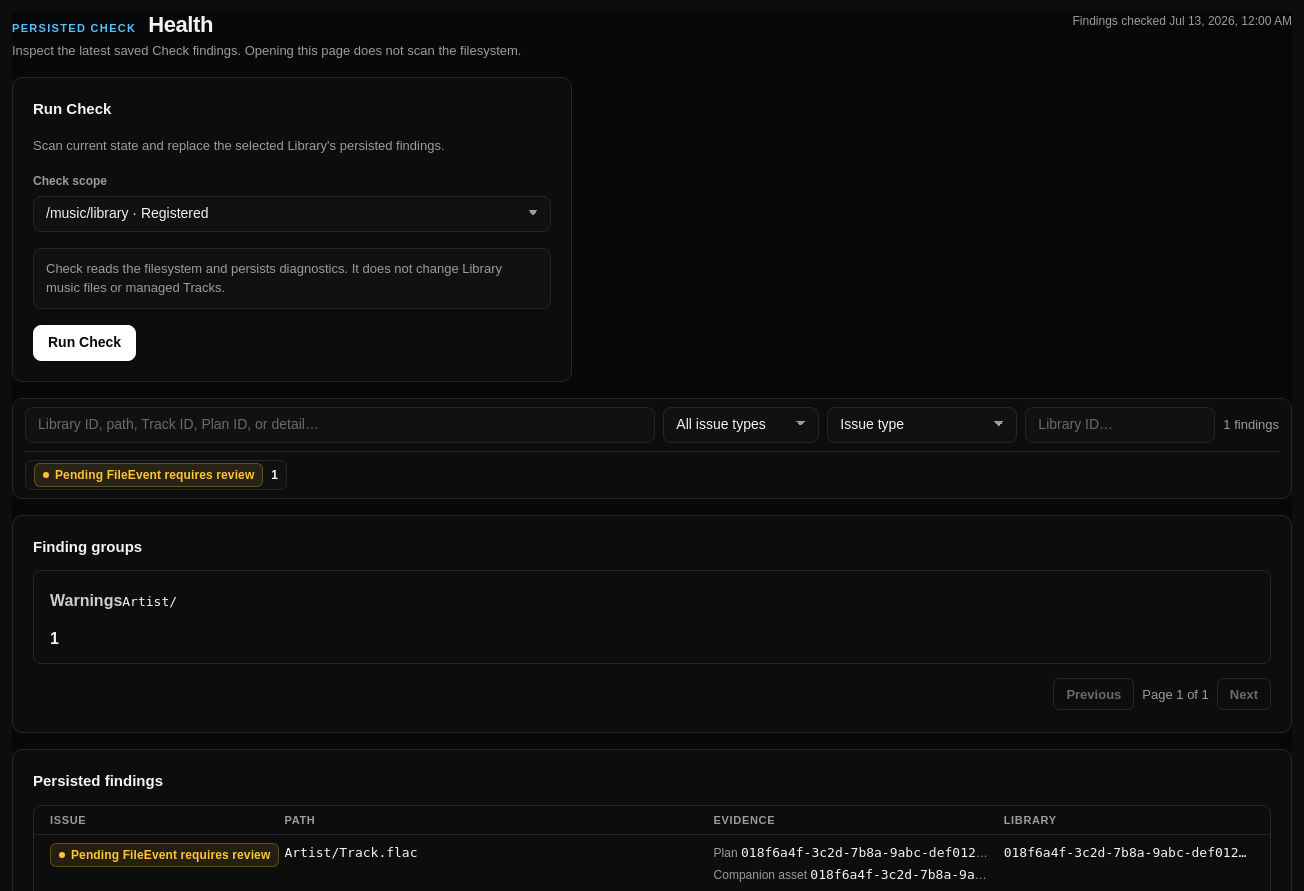
Scenario: Health inspection › runs Check with safe headers and refreshes persisted findings
Click the button "Run Check" at coordinates (85, 343), box [33, 325, 136, 361]
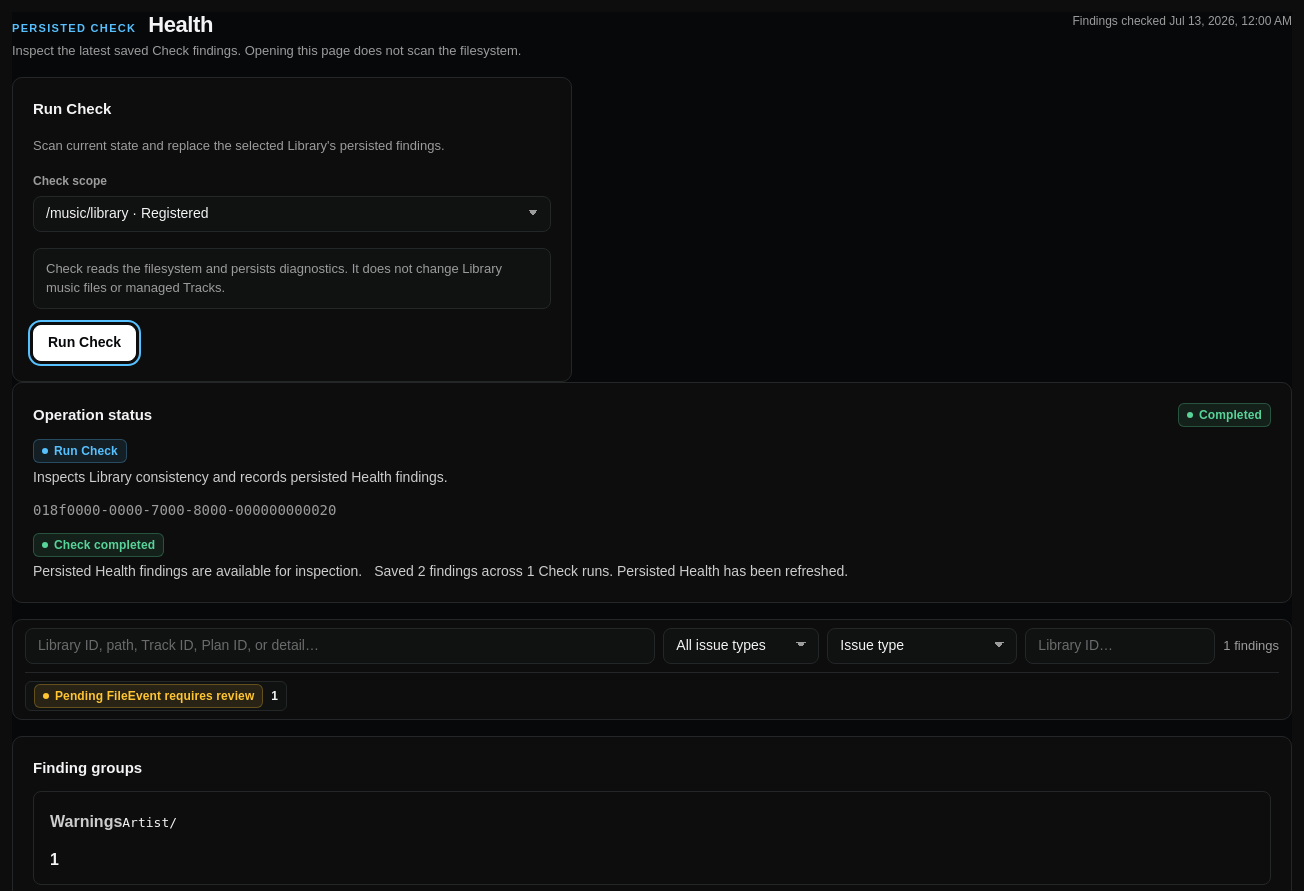
Check: the text "Saved 2 findings across 1 Check runs. Persisted Health has been refreshed." is shown, box [374, 561, 848, 582]
